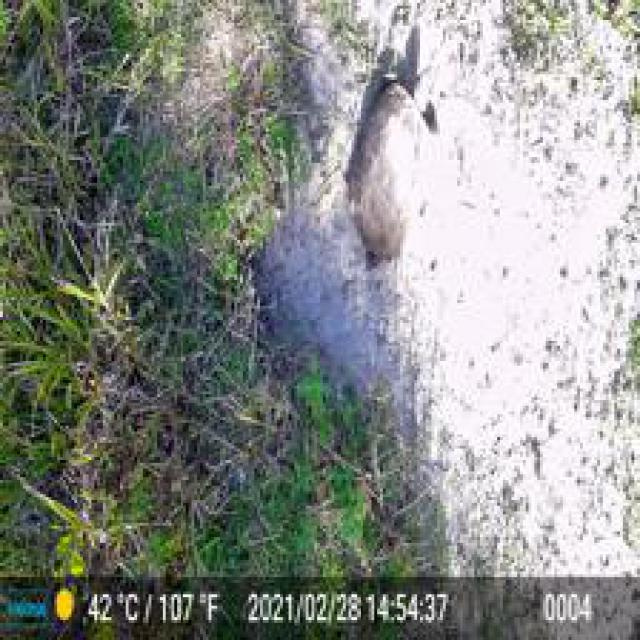tortoise: (343, 63, 440, 268)
